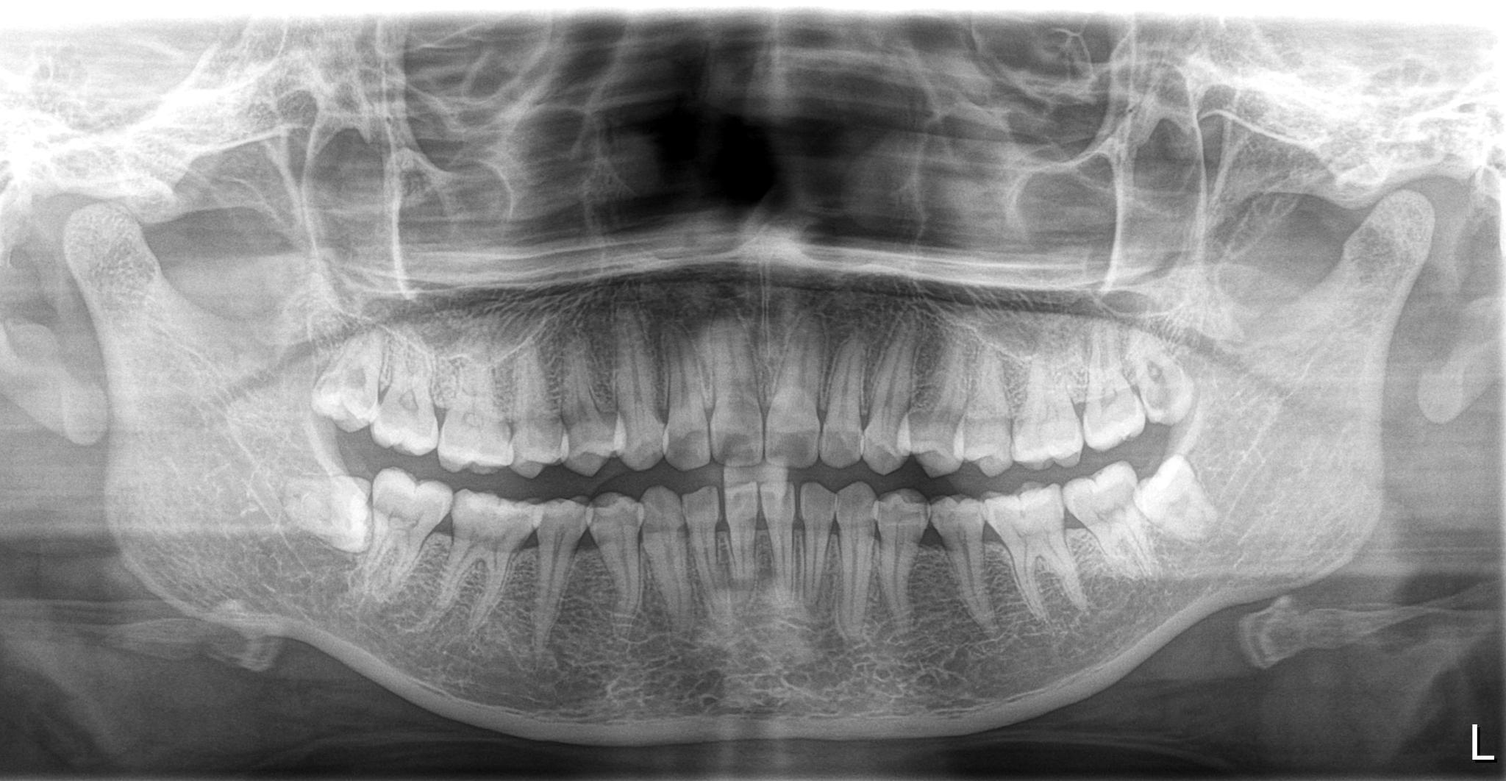Impacted Third Molar: (283, 469, 379, 550), (1134, 469, 1230, 538)
